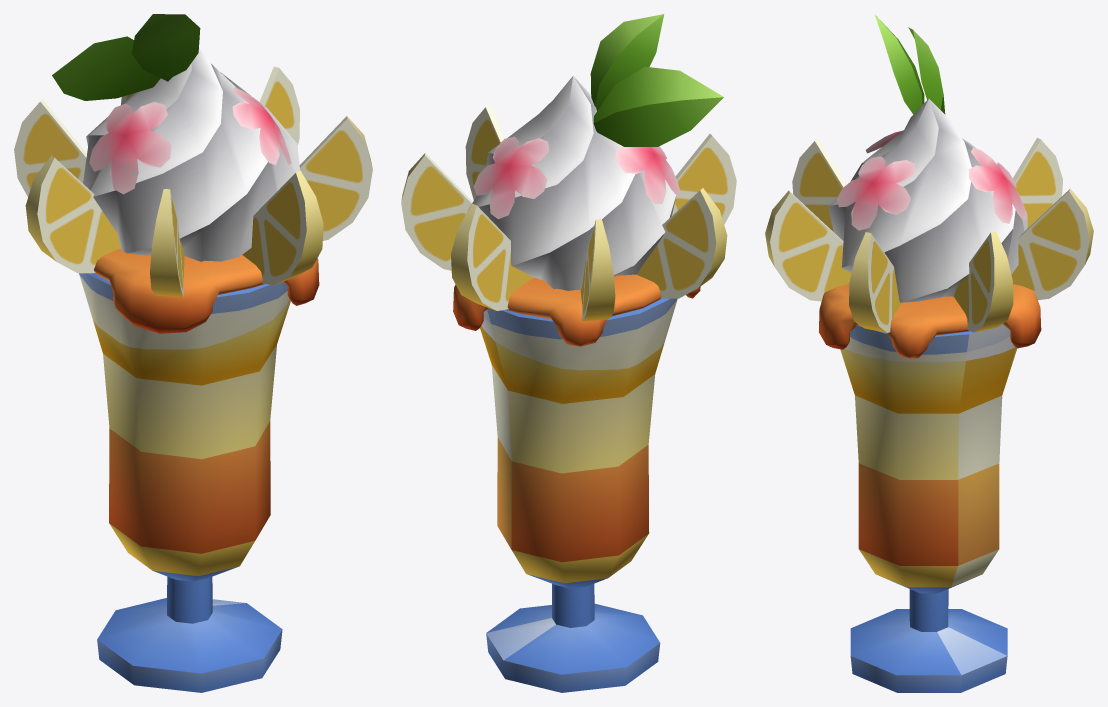
File: m_Parfait04.fbx
3 views of the same model, side by side, from view 1: azimuth 30°, elevation 25°; view 2: azimuth 150°, elevation 25°; view 3: azimuth 270°, elevation 25° (orthographic). The views are drawn at different scales.
Parts seen in each view (by area): view 1: m_Parfait04; view 2: m_Parfait04; view 3: m_Parfait04.
Boxes of the visible parts, left/top/right/bottom form: m_Parfait04: left=14, top=14, right=372, bottom=692; m_Parfait04: left=401, top=14, right=736, bottom=692; m_Parfait04: left=765, top=14, right=1093, bottom=692.
Size of the model in its own units: 14.39 by 30.5 by 14.74.
